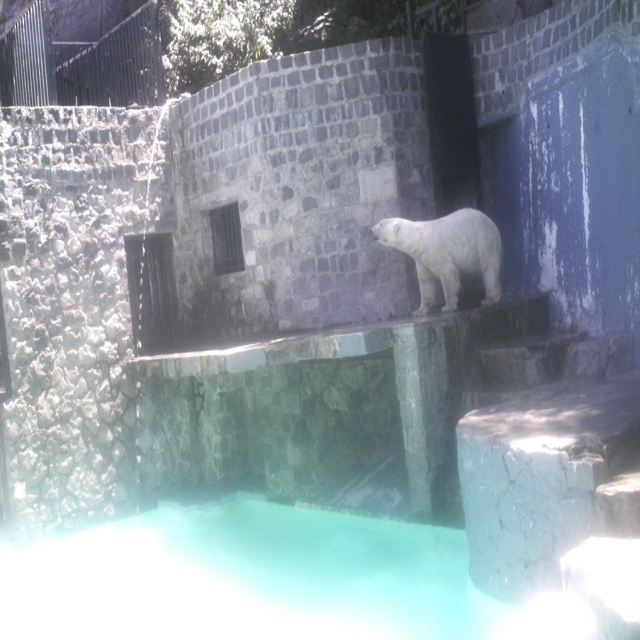Polar bear: (368, 206, 501, 309)
